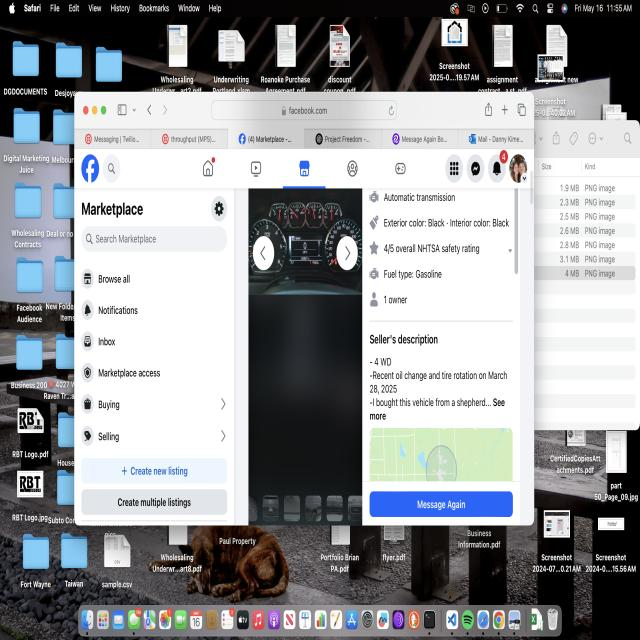message_button: (370, 492, 512, 517)
